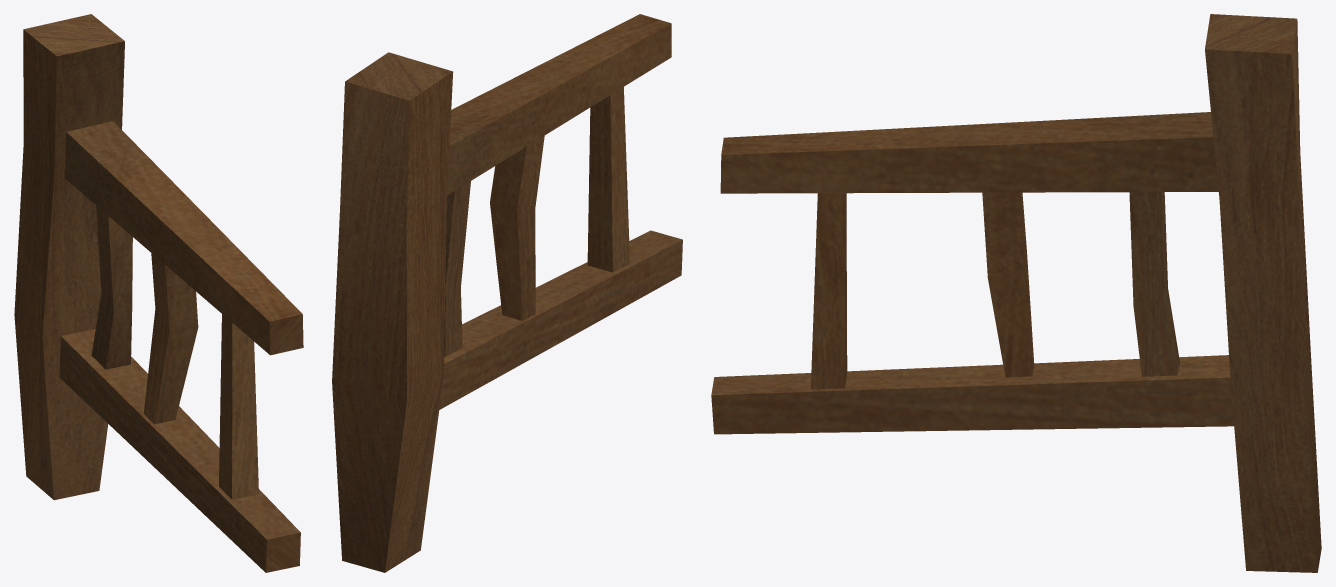
3 views of the same model, side by side, from view 1: azimuth 30°, elevation 25°; view 2: azimuth 150°, elevation 25°; view 3: azimuth 270°, elevation 25° (orthographic). The views are drawn at different scales.
Visible parts, largest first — view 1: polySurface21; view 2: polySurface21; view 3: polySurface21.
Boxes of the visible parts, x1=… form: polySurface21: x1=14, y1=14, x2=303, y2=572; polySurface21: x1=332, y1=14, x2=682, y2=572; polySurface21: x1=711, y1=14, x2=1321, y2=572.
Bounding box in the file's own units: 71.94 × 372 × 391.
